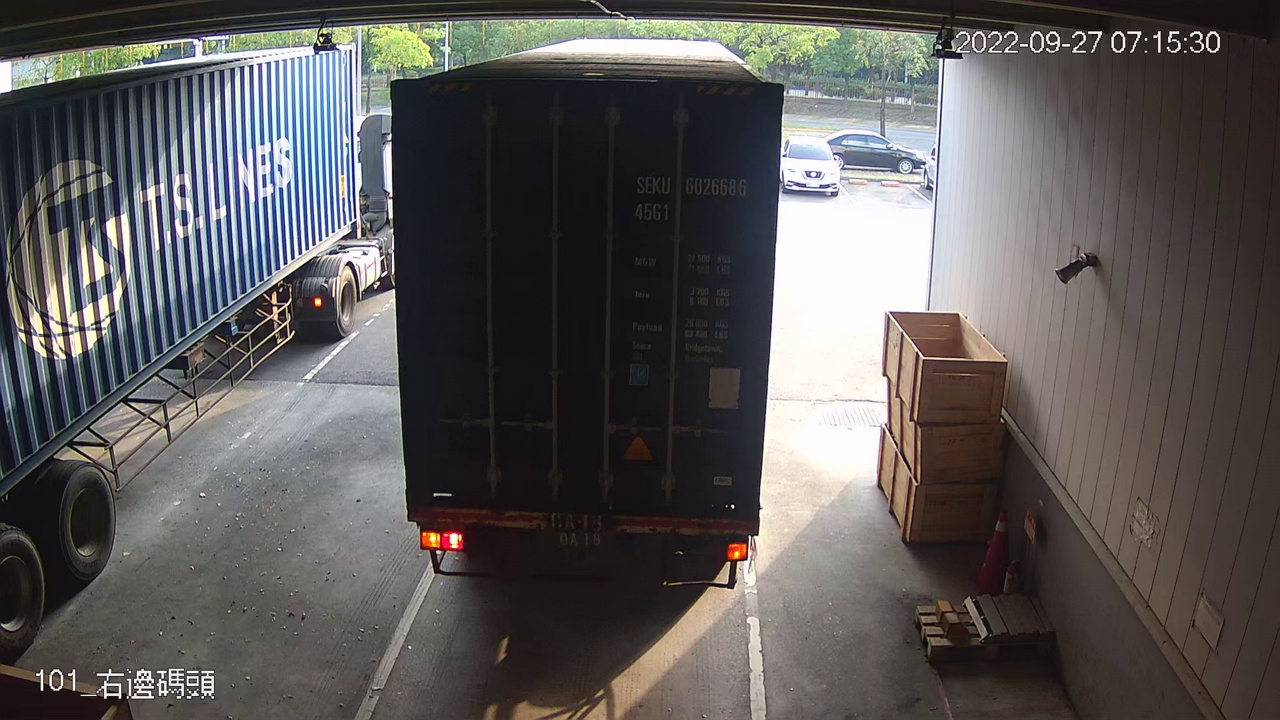container: (627, 167, 756, 232)
